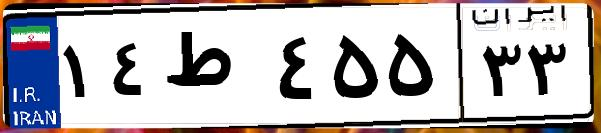1: (57, 26, 110, 100)
3: (475, 38, 525, 113), (525, 38, 570, 115)
4: (270, 28, 330, 110), (110, 28, 158, 98)
5: (385, 28, 445, 110), (330, 28, 385, 110)
ط: (158, 20, 270, 120)
